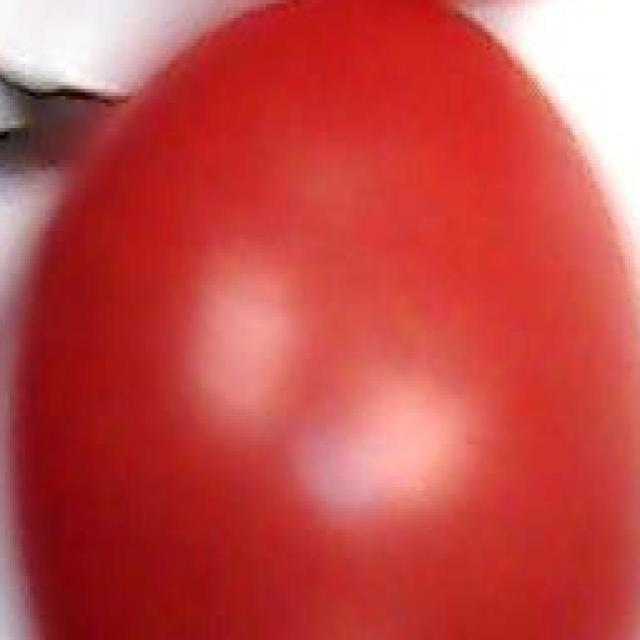Healthy Fruit: (19, 9, 427, 427)
